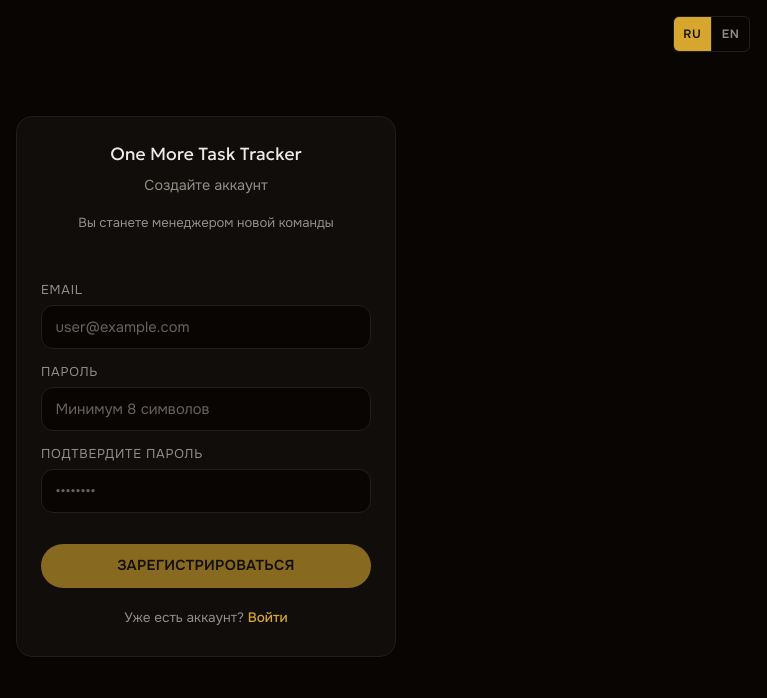
Scenario: RegisterPage › shows password mismatch error when confirm password does not match
In the password field labelled "Пароль": (206, 409) [41,387,371,431], type "password123"
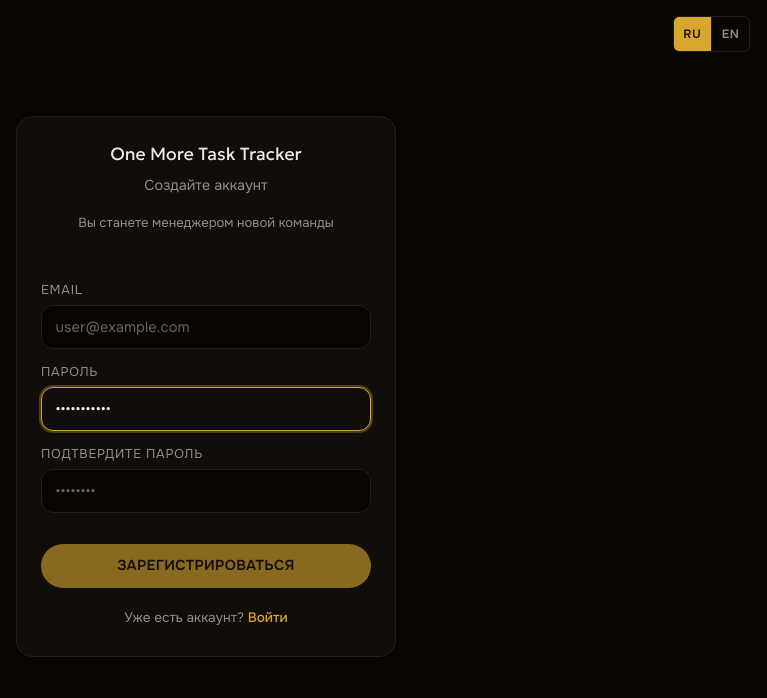
In the password field labelled "Подтвердите пароль": (206, 491) [41,469,371,513], type "different123"
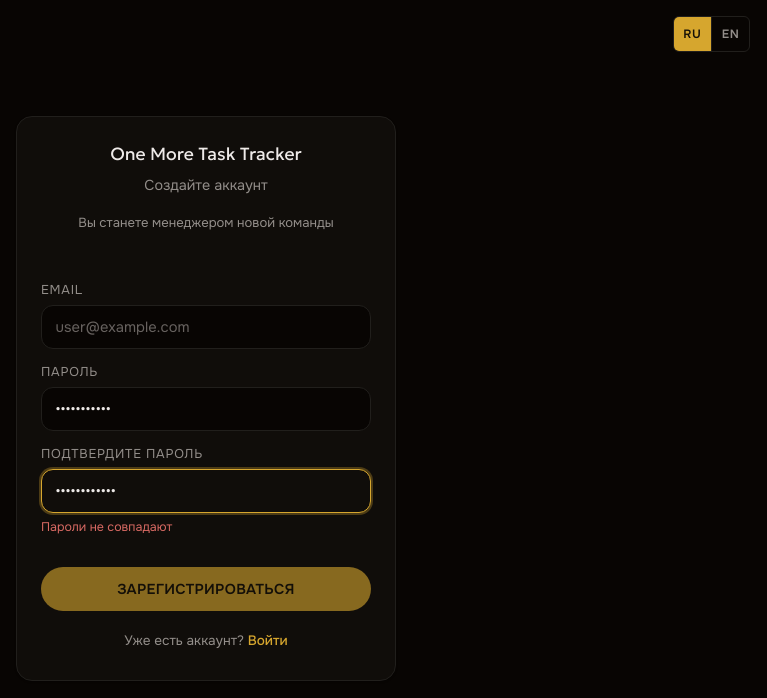
expect the text "Пароли не совпадают" is shown: met, box [41,519,172,535]
